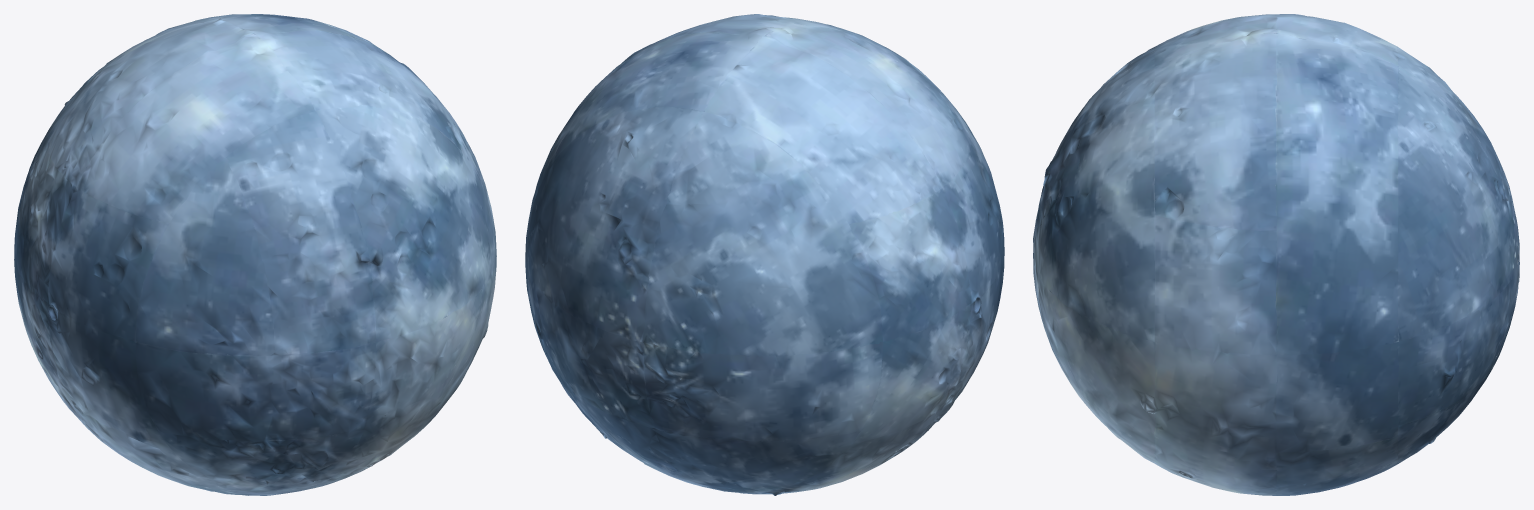
The model's file is moon.glb.
The picture shows the model from 3 angles, left to right: view 1: azimuth 30°, elevation 25°; view 2: azimuth 150°, elevation 25°; view 3: azimuth 270°, elevation 25°; orthographic projection.
Parts seen in each view (by area): view 1: geometry_0; view 2: geometry_0; view 3: geometry_0.
Part boxes in pixels (box(x1,y1,x2,y2)): geometry_0: box(14, 14, 496, 495); geometry_0: box(525, 14, 1004, 495); geometry_0: box(1033, 14, 1519, 495).
Size of the model in its own units: 0.9862 by 0.9979 by 0.9999.
Materials: 1 (1 with a texture image).
